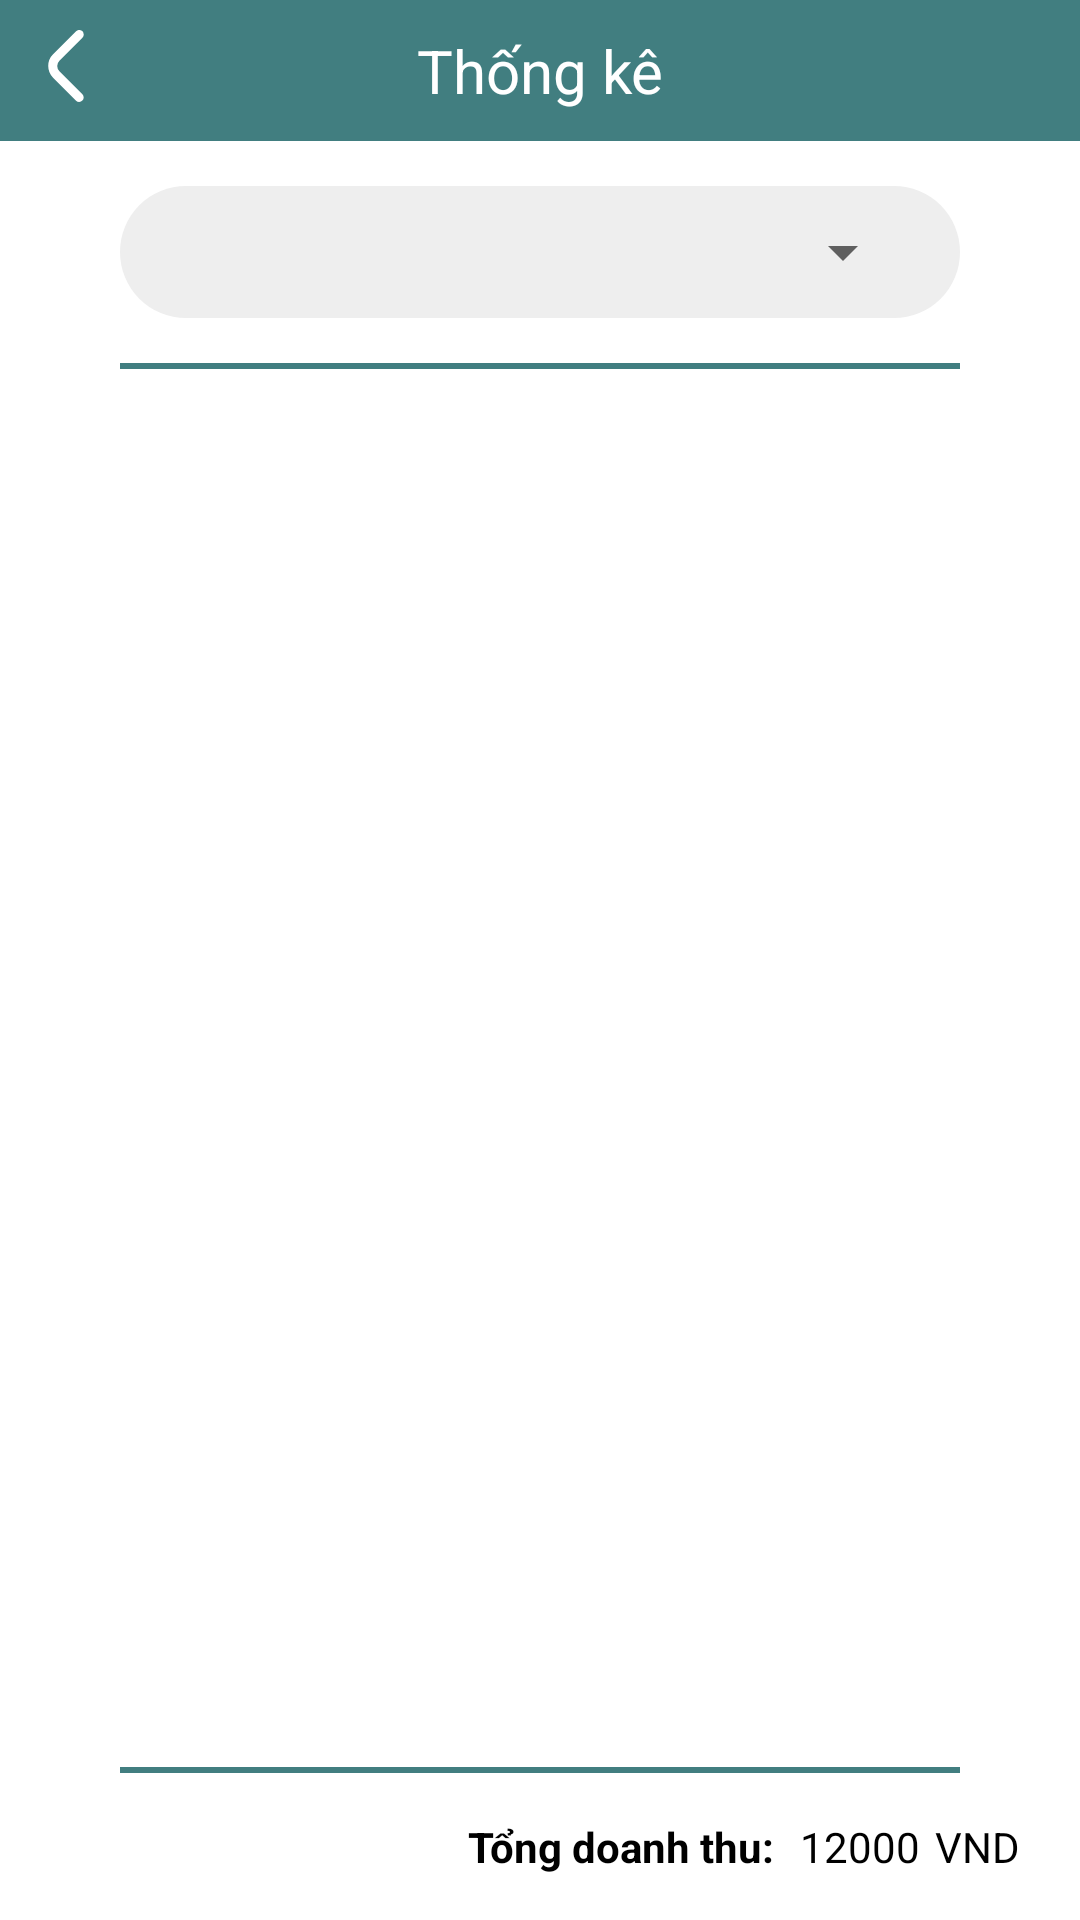

Named icons in this screenshot (1080w x 1920h) and their centers, [x,y]:
back: [66,66]
